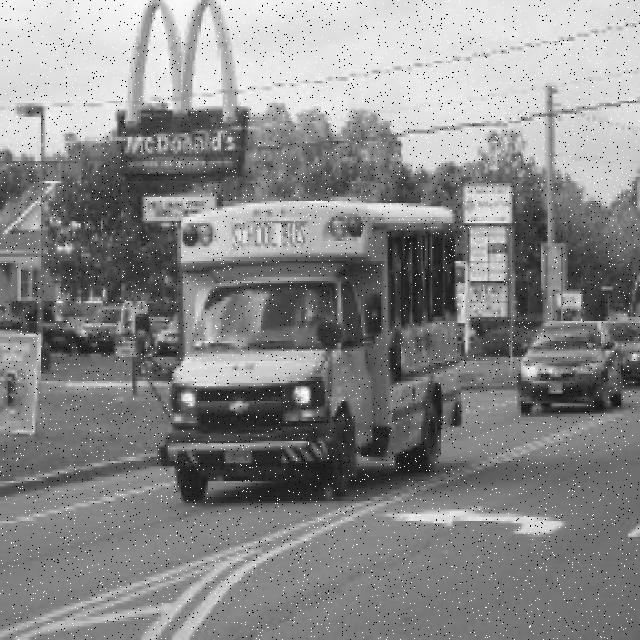Bus- Small: (135, 201, 462, 504)
